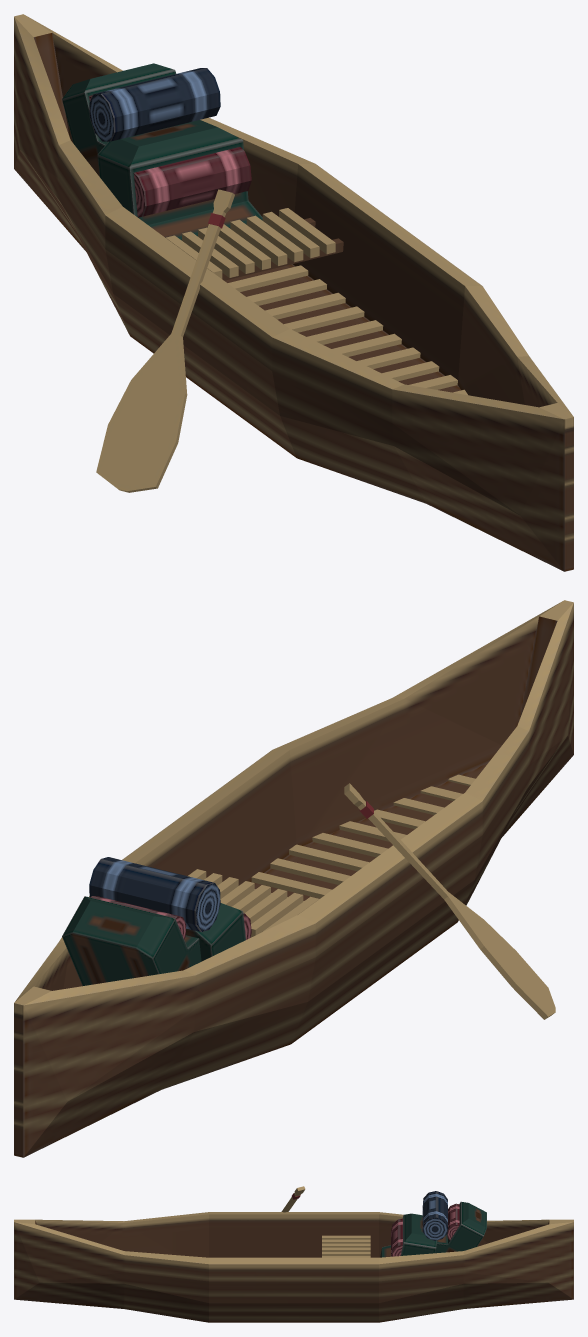
Rendered from Canoe 2 and Paddle and Bag.obj.
The picture shows the model from 3 angles, top to bottom: view 1: azimuth 30°, elevation 25°; view 2: azimuth 150°, elevation 25°; view 3: azimuth 270°, elevation 25°; orthographic projection. The views are drawn at different scales.
Visible parts, largest first — view 1: Canoe_5, Paddle_8; view 2: Canoe_5, Paddle_8; view 3: Canoe_5, Paddle_8.
Part boxes in pixels (<box>): Canoe_5: <box>14,14,573,571</box>; Paddle_8: <box>96,189,234,492</box>; Canoe_5: <box>14,600,573,1157</box>; Paddle_8: <box>344,783,555,1019</box>; Canoe_5: <box>14,1191,573,1322</box>; Paddle_8: <box>281,1186,305,1212</box>.
Bounding box in the file's own units: 205 × 134 × 589.
Materials: 1 (1 with a texture image).
